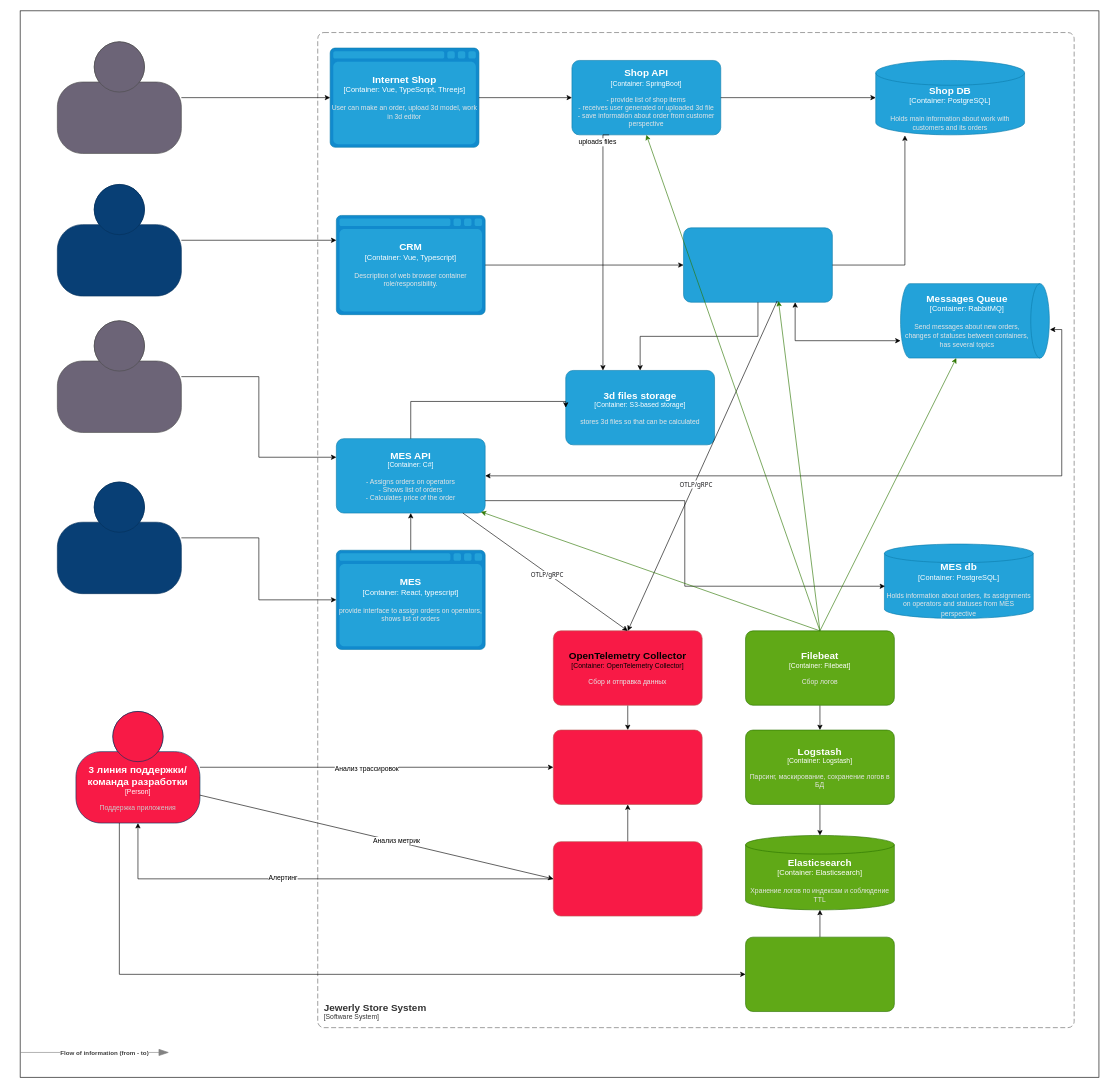
This 1110x1088 diagram has some shape labels left out. The box of each missing label's shape, as (x1, y1, x2, y2) in pixels:
API user [Person] Description of external person.: (57, 320, 181, 432)
CRM API [Container: SpringBoot] Description of container role/responsibility.: (683, 227, 832, 302)
Customer [Person] Description of external person.: (57, 41, 181, 153)
Grafana [Container: Grafana] Визуализация метрик, алертинг: (553, 841, 702, 916)
Jaeger [Container: Jaeger] Хранение и визуализация деталей трассировки: (553, 729, 702, 804)
Kibana [Container: Kibana] Интерфейс для анализа логов: (745, 937, 894, 1012)
Operator [Person] Takes order in work, manufactures jewerly: (57, 481, 181, 594)
Seller [Person] Operates with order, confirms manufacturing for the user: (57, 184, 181, 296)
